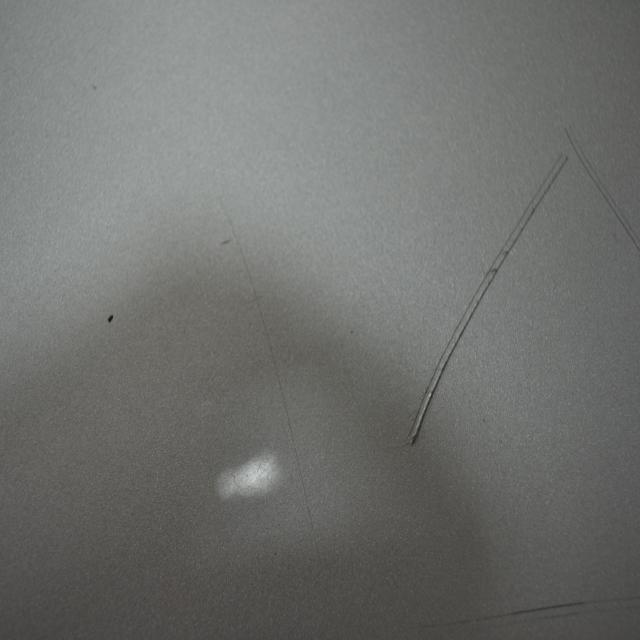dirt: (104, 311, 115, 328)
scratch: (399, 146, 574, 457), (210, 184, 332, 591), (562, 111, 640, 264), (424, 584, 640, 635)
